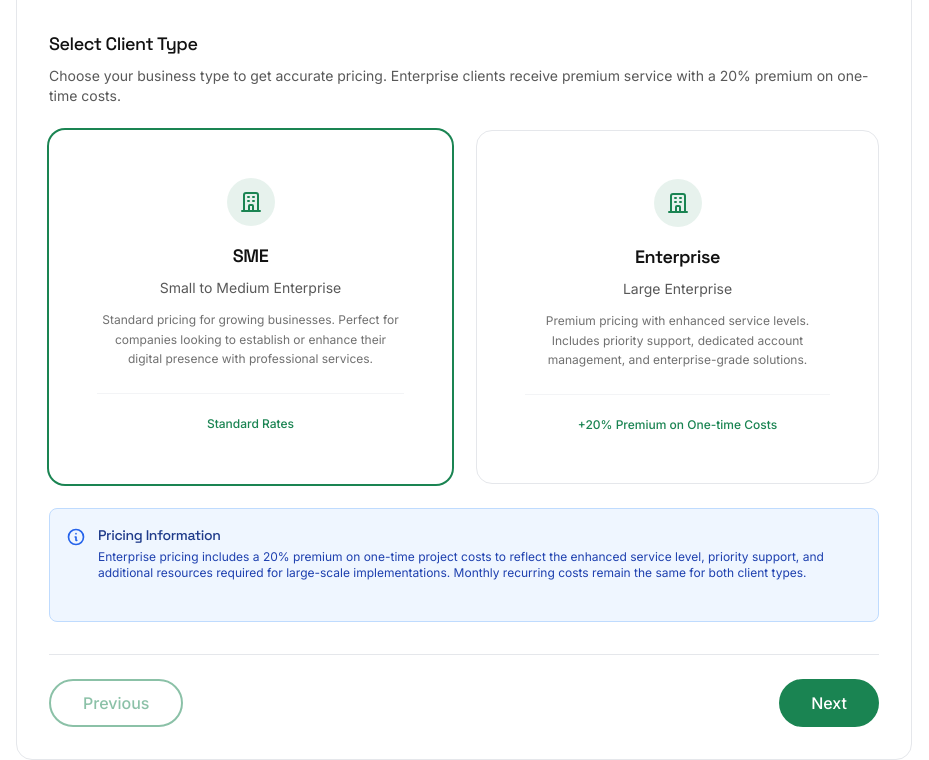
Test case: PricingCalculator UI Components › Monthly Services Step › should display hosting requirement disclaimer
(page scrolled)
Go through steps 1, 2, 3 to reach step 4
Click the button "Next" at {"x": 829, "y": 702}, box [779,678,879,726]
(page scrolled)
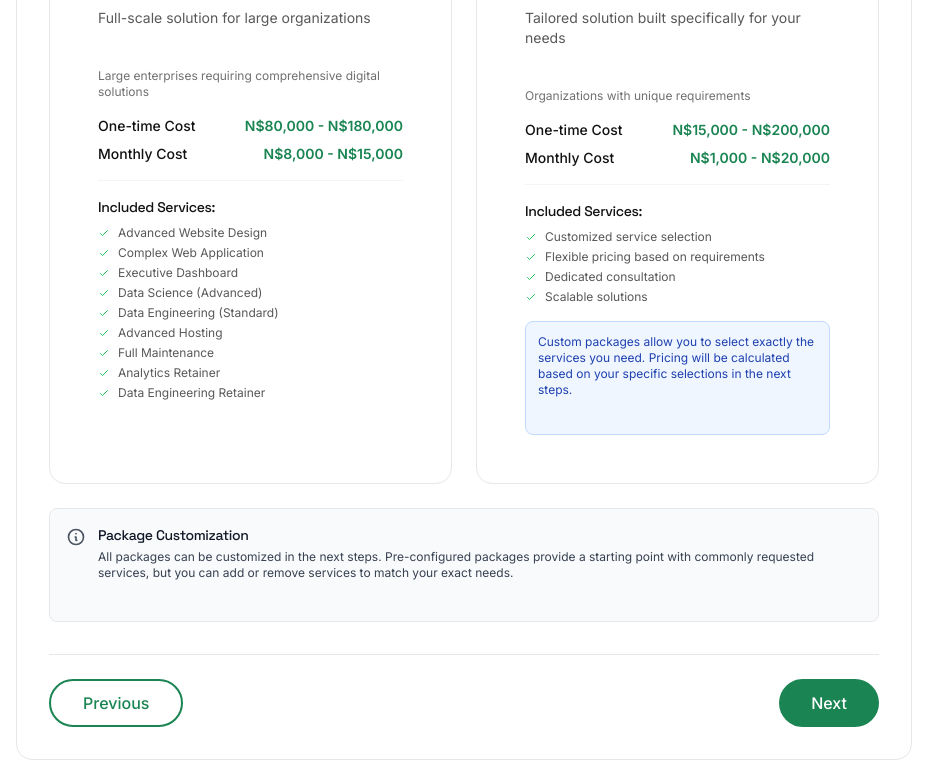
Click the button "Next" at {"x": 829, "y": 703}, box [779,679,879,727]
(page scrolled)
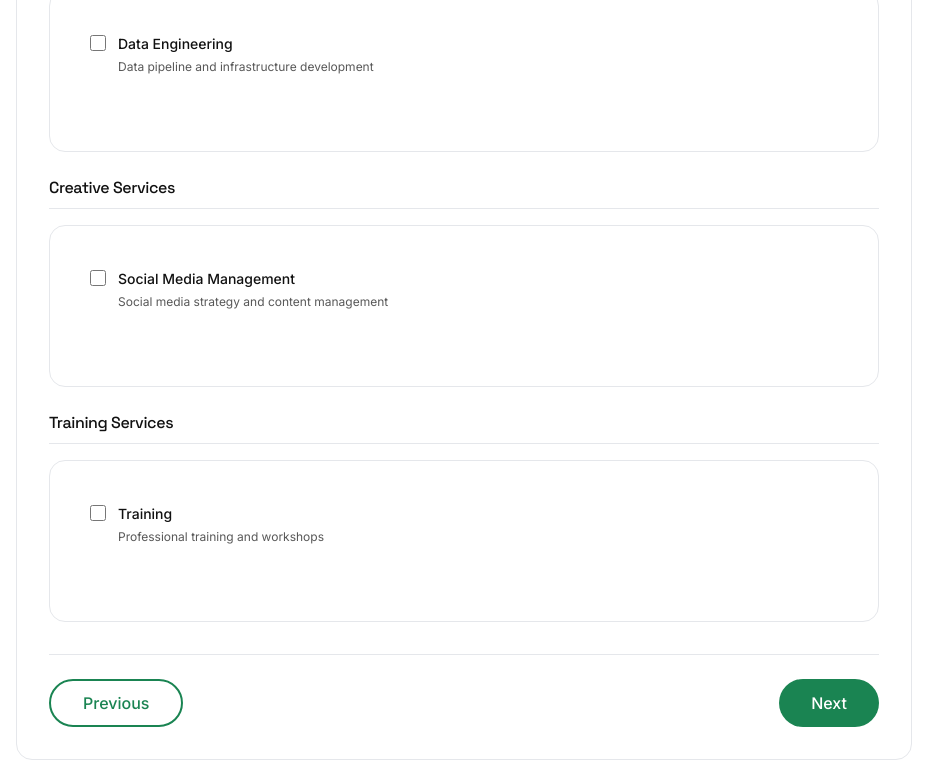
Click the button "Next" at {"x": 829, "y": 703}, box [779,679,879,727]
(page scrolled)
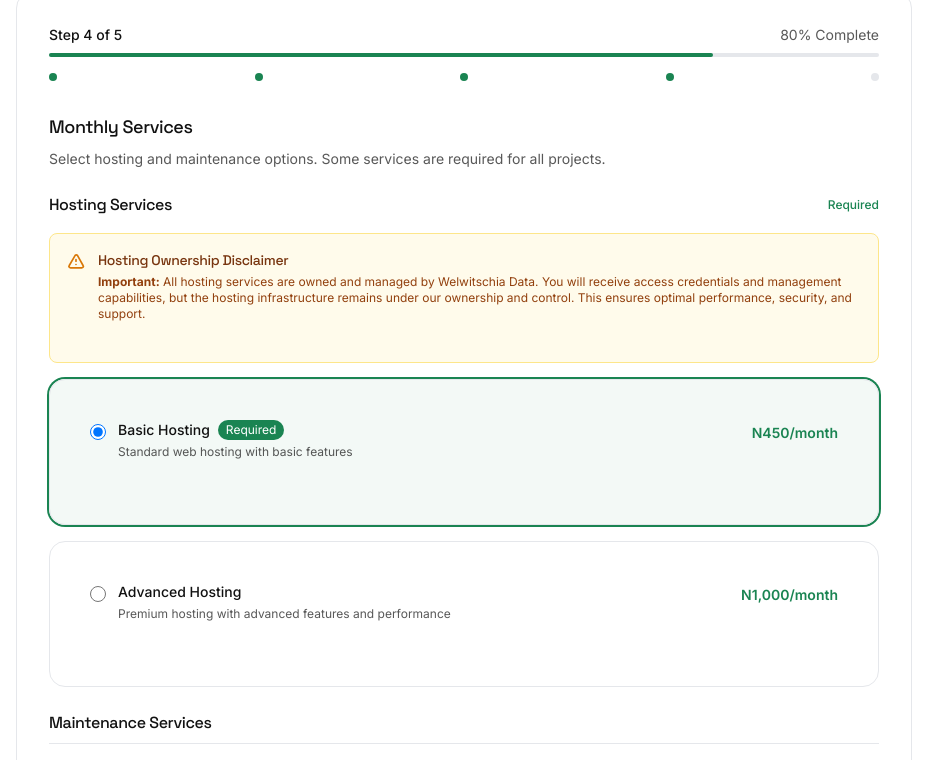
expect the heading "Monthly Services" is shown: met, box [49,115,192,138]
expect the heading "Hosting Ownership Disclaimer" is shown: met, box [98,251,288,269]
expect the text "All hosting services are owned and managed by Welwitschia Data" is shown: met, box [98,274,852,321]
